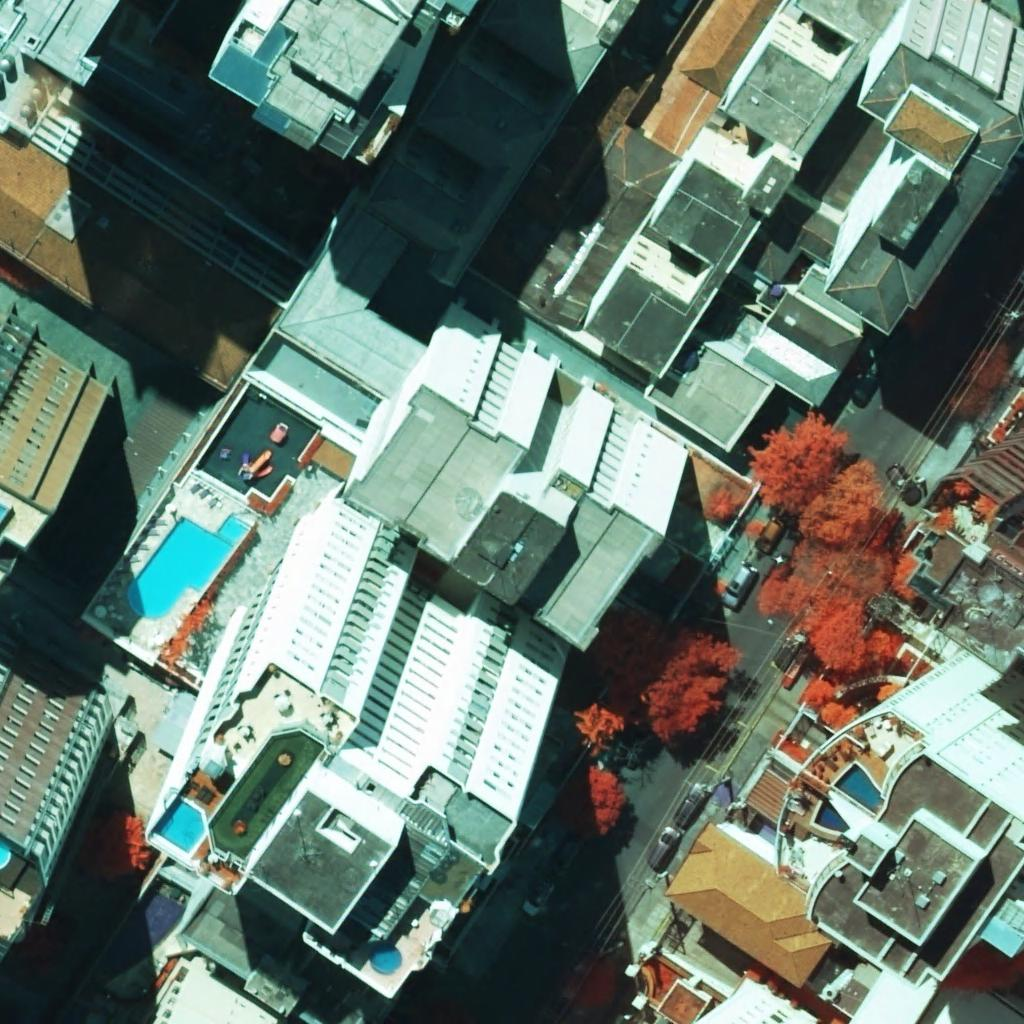pool: (128, 515, 251, 618), (154, 798, 204, 853), (834, 764, 884, 815), (815, 798, 850, 833), (370, 944, 401, 975), (0, 842, 8, 866)
